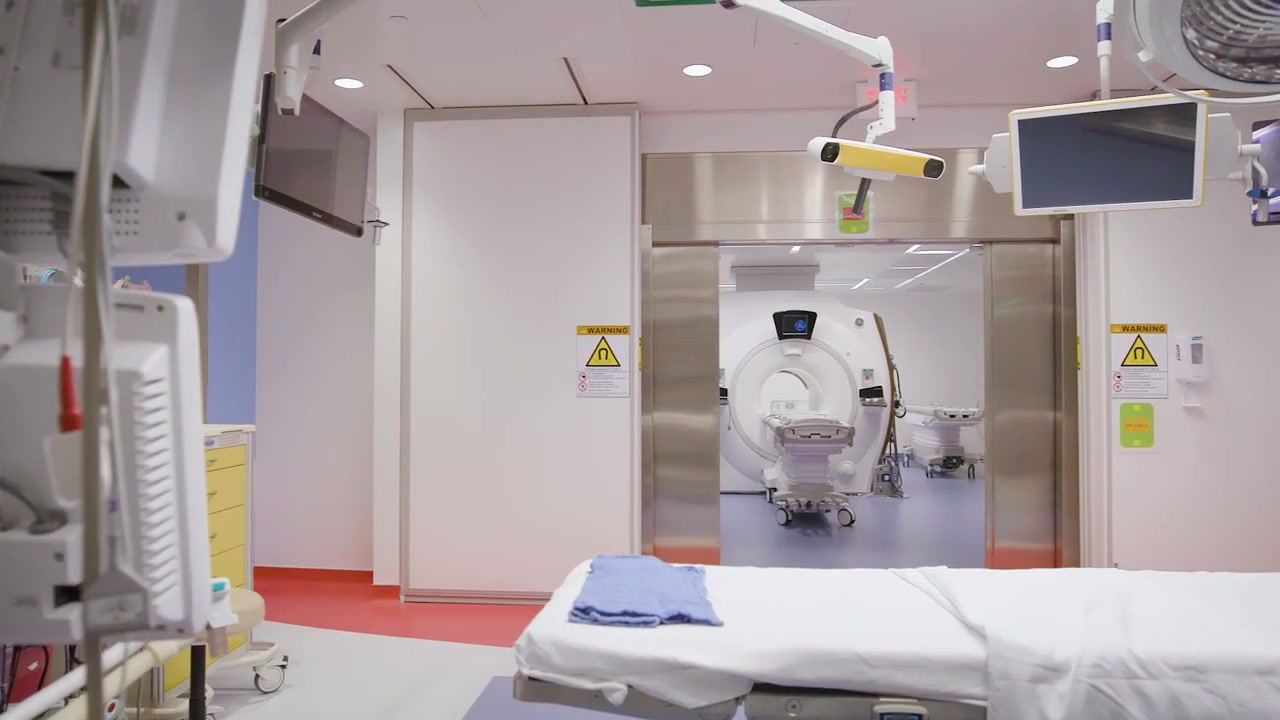TV: (253, 72, 371, 239)
bedside_monitor: (1, 290, 210, 647), (1, 1, 270, 264), (1010, 91, 1209, 217)
dispenser: (1174, 332, 1212, 415)
handle: (204, 487, 220, 498), (203, 457, 220, 466), (208, 531, 218, 541)
medical_drawer: (136, 425, 289, 720)
operating_bed: (513, 555, 1280, 720)
surgical_light: (1131, 1, 1280, 92)
xray_bed: (763, 412, 857, 527), (897, 404, 985, 481)
xray_machine: (722, 289, 890, 500)
